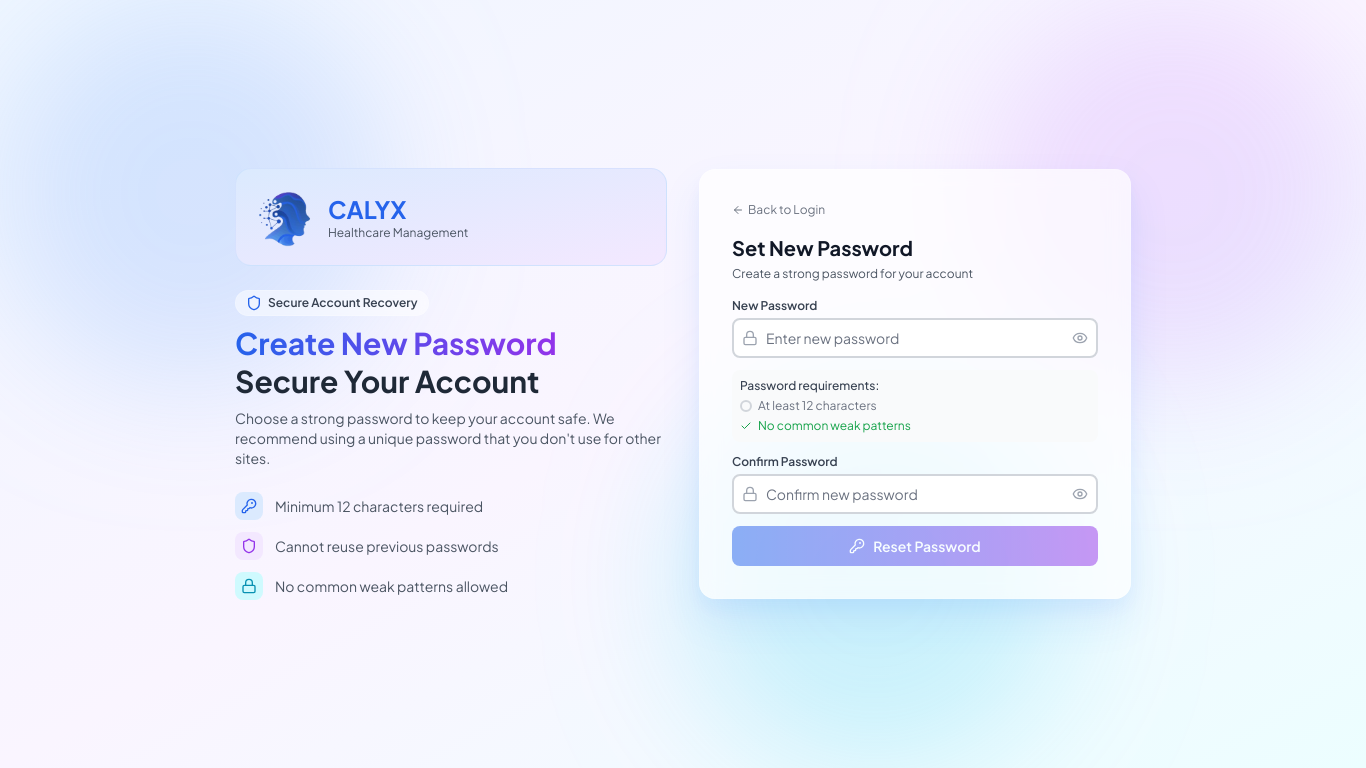
ResetPassword Page › shows validation error for short password
Type "short" into the password field with placeholder "Enter new password".
click(915, 338); type("short")  # box [732, 318, 1098, 358]
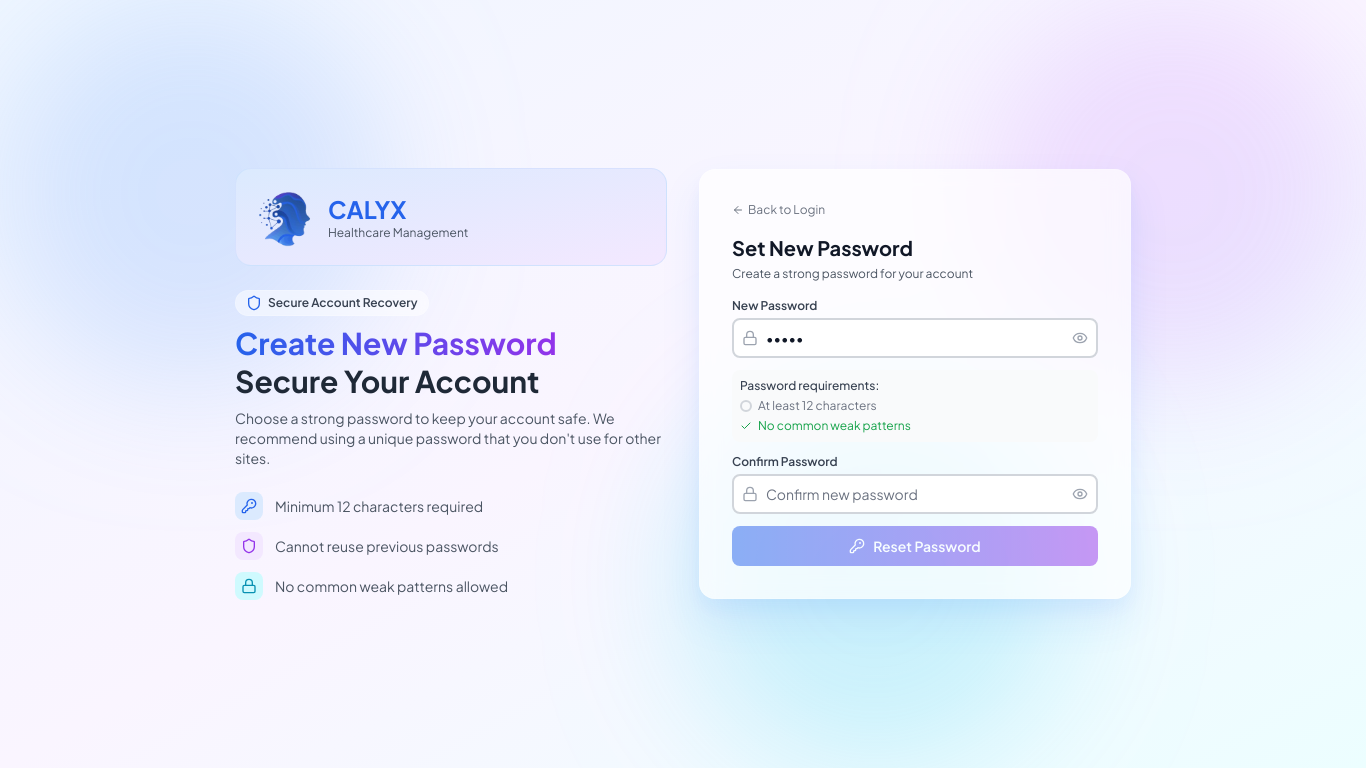
Leave the password field with placeholder "Enter new password", box [732, 318, 1098, 358]
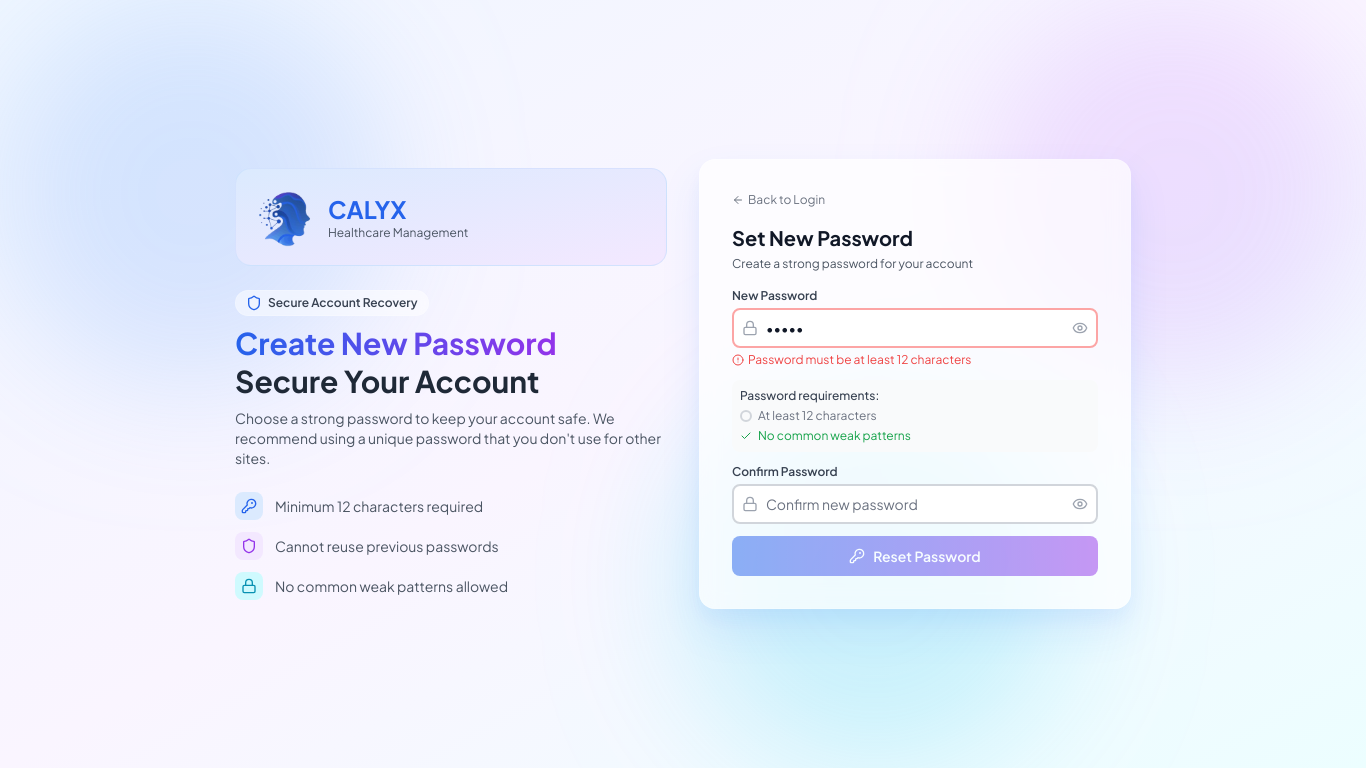
Check: the text "Password must be at least 12 characters" is shown, box [732, 352, 971, 367]
